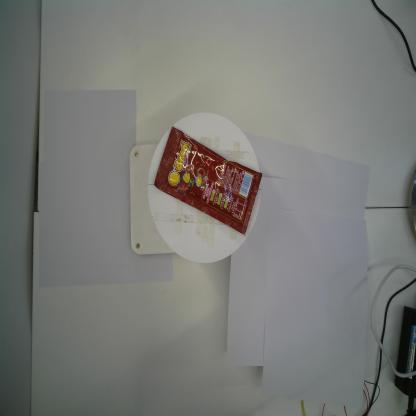Candy: (153, 126, 263, 236)
